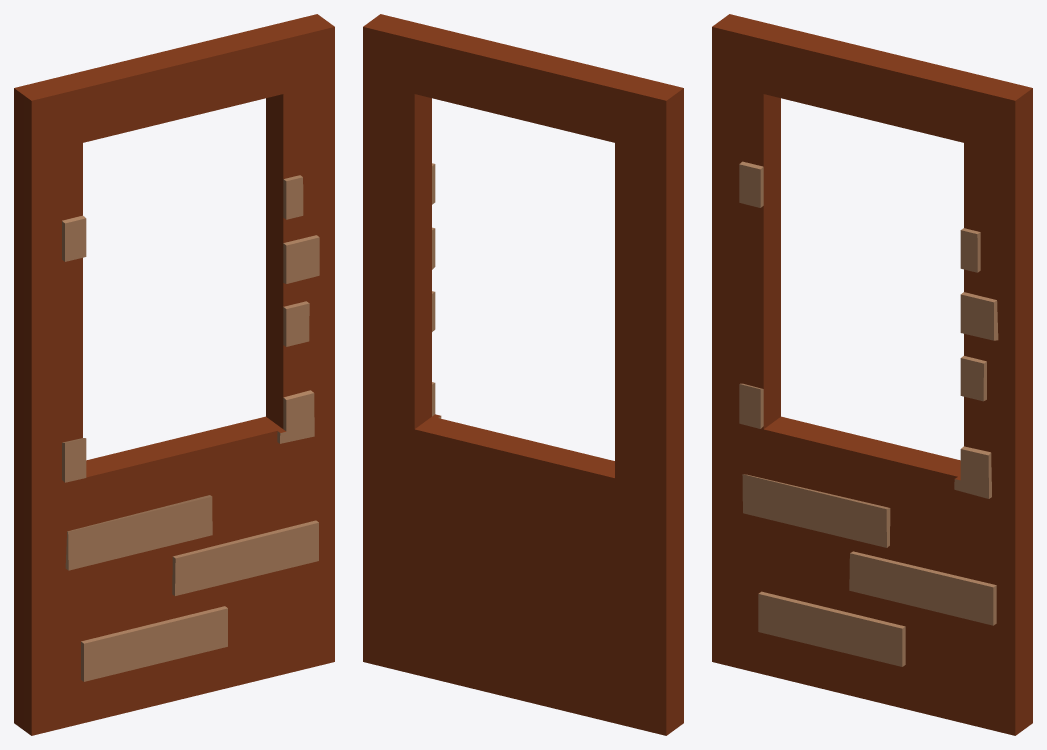
File: BrickV2SmallWindowframe.fbx
3 views of the same model, side by side, from view 1: azimuth 30°, elevation 25°; view 2: azimuth 150°, elevation 25°; view 3: azimuth 330°, elevation 25° (orthographic).
Visible parts, largest first — view 1: BrickV2SmallWindowframe; view 2: BrickV2SmallWindowframe; view 3: BrickV2SmallWindowframe.
Part boxes in pixels (<box>): BrickV2SmallWindowframe: <box>14,14,334,735</box>; BrickV2SmallWindowframe: <box>363,14,683,735</box>; BrickV2SmallWindowframe: <box>712,14,1032,735</box>.
Bounding box in the file's own units: 100 × 200 × 11.75.
